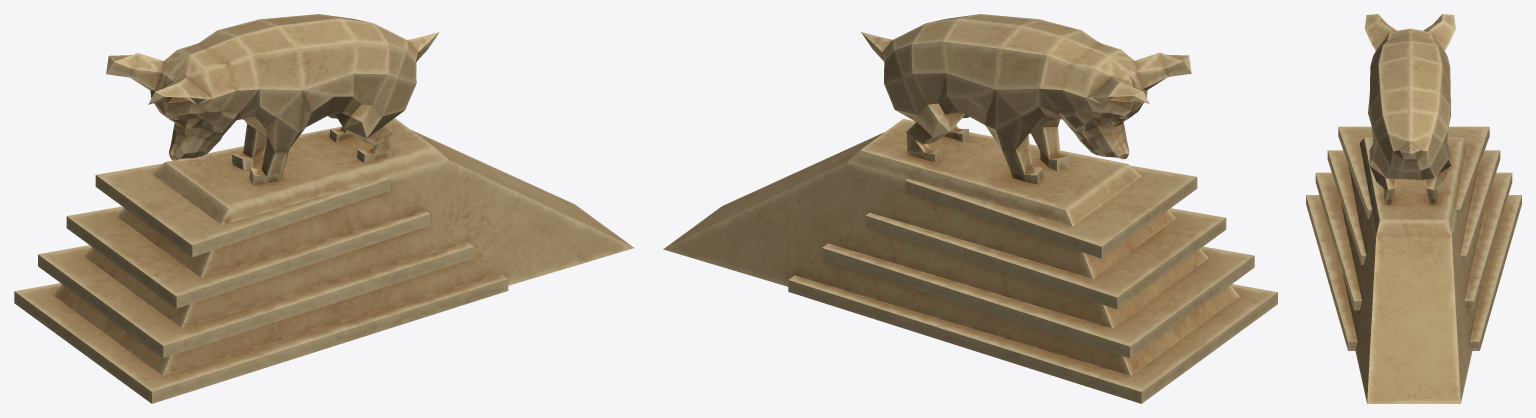
Rendered from Corgi on platform ruin.FBX.
3 renders of one model, left to right at view 1: azimuth 30°, elevation 25°; view 2: azimuth 150°, elevation 25°; view 3: azimuth 270°, elevation 25°, orthographic. The views are drawn at different scales.
Visible parts, largest first — view 1: Box001; view 2: Box001; view 3: Box001.
Boxes of the visible parts, x1,y1,x2,y2 form: Box001: [14, 14, 633, 403]; Box001: [663, 14, 1277, 403]; Box001: [1306, 14, 1521, 403].
Bounding box in the file's own units: 4485 × 2321 × 2049.
Materials: 1 (1 with a texture image).
